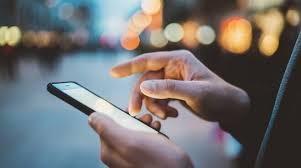Hand: (117, 51, 257, 125), (79, 112, 196, 167)
Smartphone: (46, 82, 173, 148)
